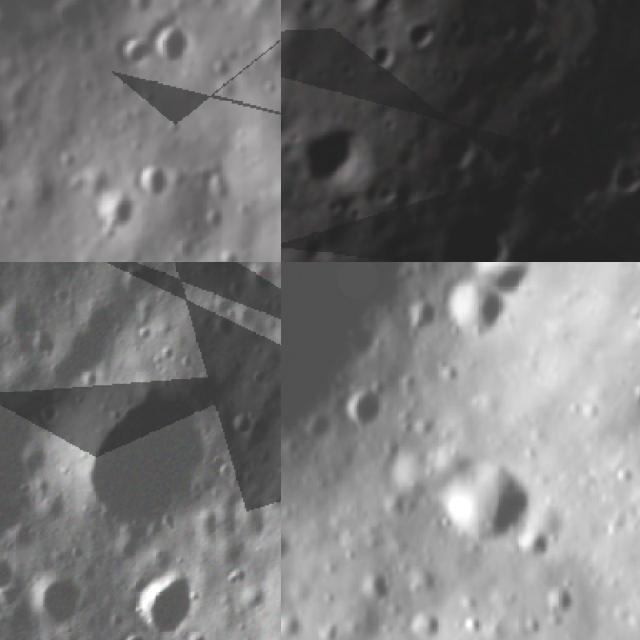crater: (55, 377, 222, 543), (420, 428, 558, 568), (290, 108, 383, 202), (432, 266, 517, 346), (327, 365, 407, 446), (424, 198, 524, 262), (141, 560, 195, 640), (532, 566, 593, 625), (362, 226, 458, 262), (44, 557, 81, 640), (351, 554, 407, 607), (393, 593, 455, 640), (355, 35, 409, 82), (0, 292, 47, 344), (96, 188, 141, 242), (400, 6, 447, 57), (151, 21, 195, 72), (112, 28, 154, 74), (404, 285, 445, 328), (136, 162, 174, 204), (281, 511, 308, 569), (281, 0, 307, 56), (201, 316, 239, 347), (239, 582, 272, 616), (248, 263, 281, 294), (119, 262, 150, 294), (0, 112, 15, 166), (0, 548, 15, 600), (237, 404, 259, 433), (116, 632, 153, 640)
